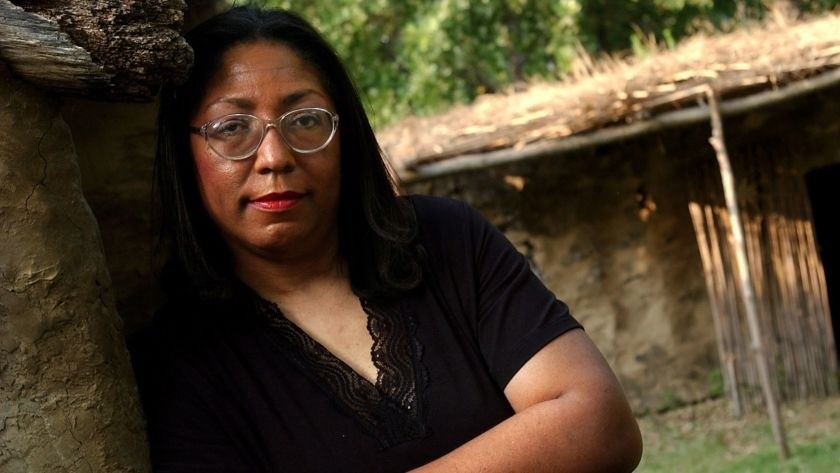face_no_mask: (179, 37, 351, 264)
